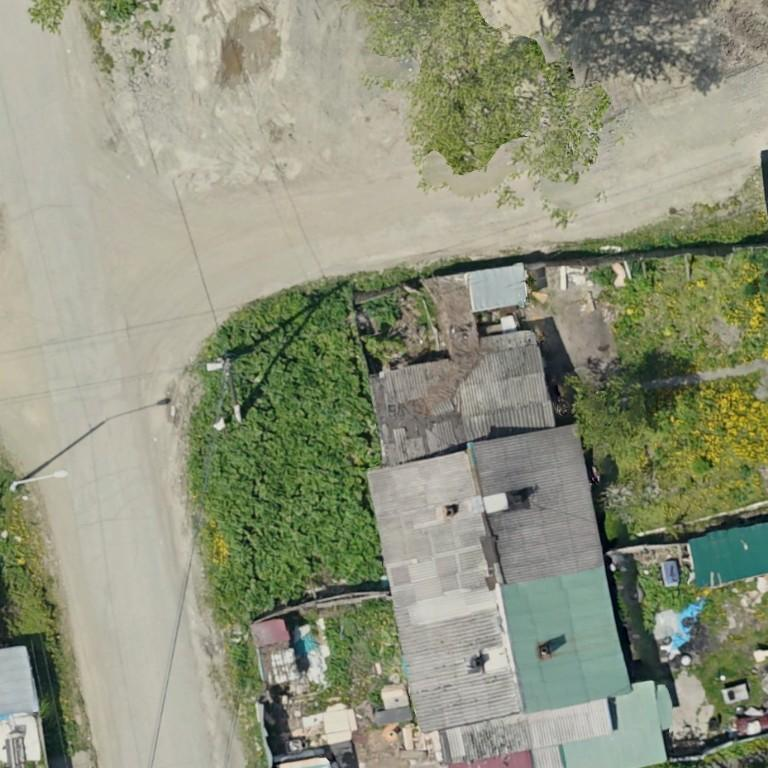hogweed: (187, 280, 381, 625), (324, 639, 352, 685), (590, 267, 617, 284)
